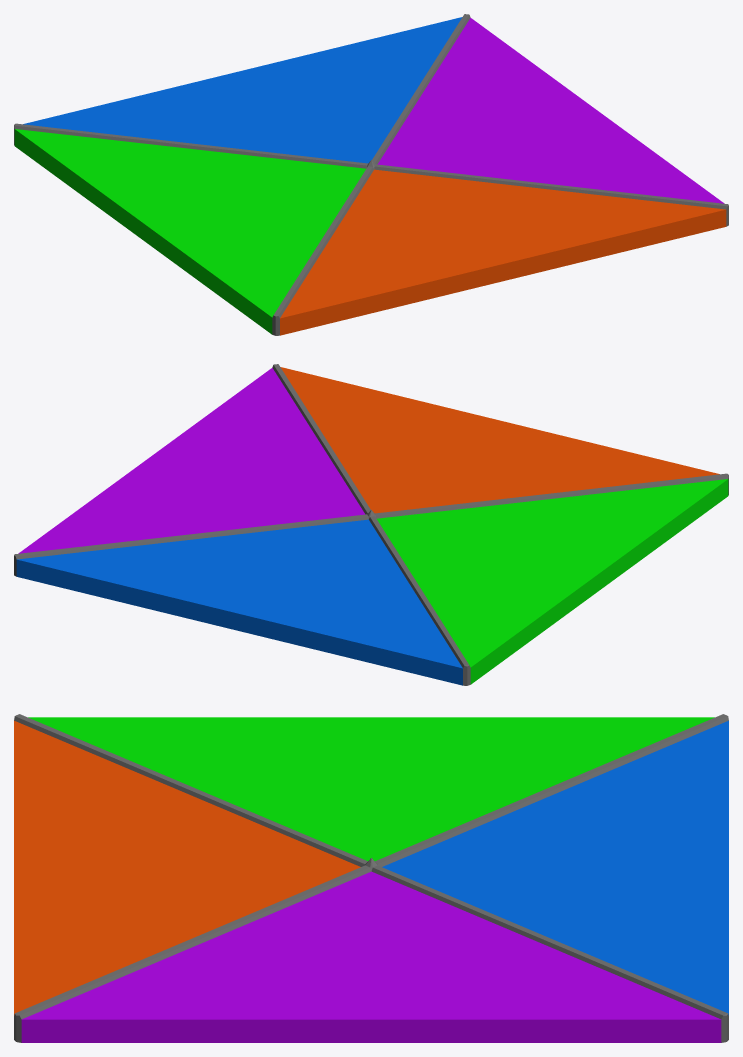
The model's file is center.glb.
3 renders of one model, top to bottom at view 1: azimuth 30°, elevation 25°; view 2: azimuth 150°, elevation 25°; view 3: azimuth 270°, elevation 25°, orthographic. The views are drawn at different scales.
Parts seen in each view (by area): view 1: center; view 2: center; view 3: center.
Boxes of the visible parts, <box> form: center: <box>14,14,728,335</box>; center: <box>14,364,728,685</box>; center: <box>14,714,728,1042</box>.
Bounding box in the file's own units: 3.04 × 0.16 × 3.04.
